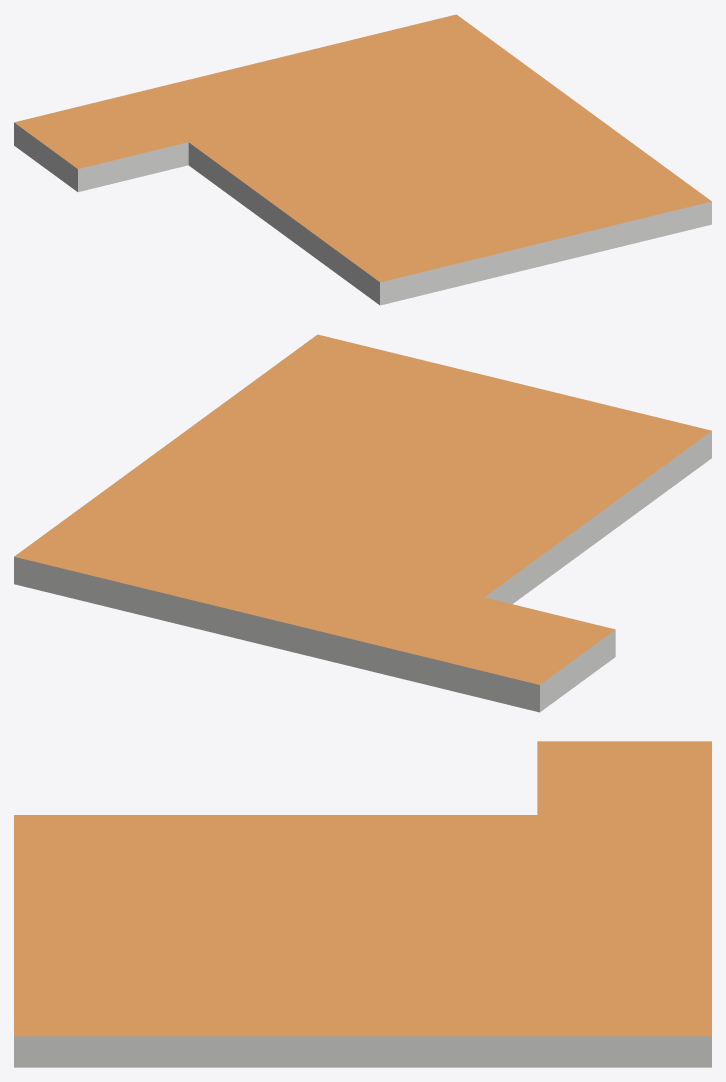
File: laje_abertura_reta.glb
The picture shows the model from 3 angles, top to bottom: view 1: azimuth 30°, elevation 25°; view 2: azimuth 150°, elevation 25°; view 3: azimuth 270°, elevation 25°; orthographic projection. The views are drawn at different scales.
Parts seen in each view (by area): view 1: laje_abertura_reta; view 2: laje_abertura_reta; view 3: laje_abertura_reta.
Part boxes in pixels (x1,y1,x2,y2): laje_abertura_reta: (14, 14, 711, 305); laje_abertura_reta: (14, 334, 711, 712); laje_abertura_reta: (14, 741, 711, 1067).
Size of the model in its own units: 4 by 0.2 by 4.
